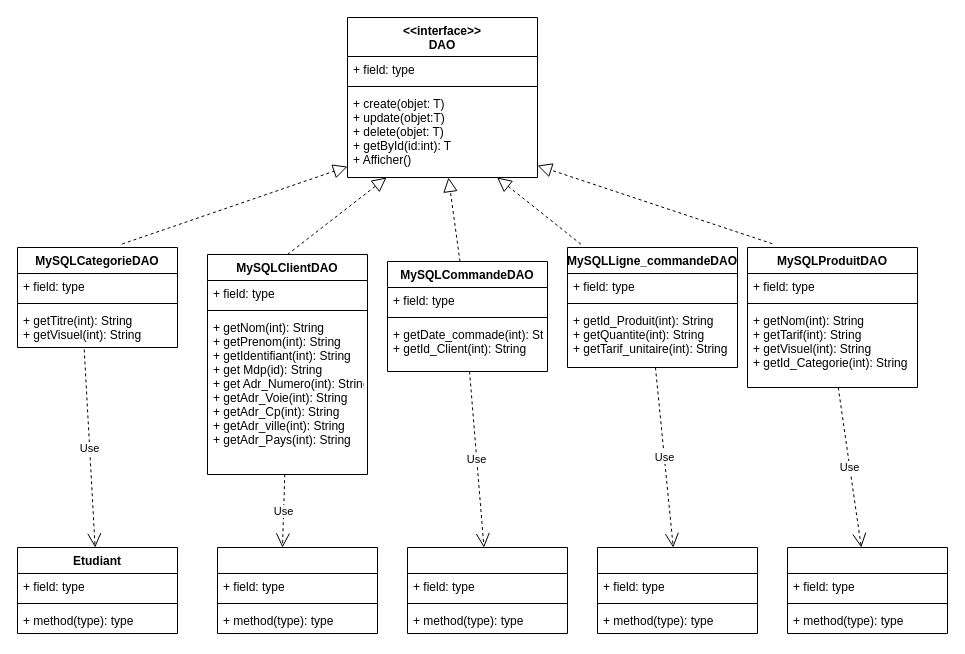
Some shapes in this 965 by 654 pixel diagram are drawn without their labels. The shapes that lost their labels are listed below. From the top down, each one's box as (x1, y1, x2, y2) in pixels, then its label:
(216, 546, 378, 634): Client
(406, 546, 568, 634): Commande
(596, 546, 758, 634): Ligne_Commande
(786, 546, 948, 634): Produit
